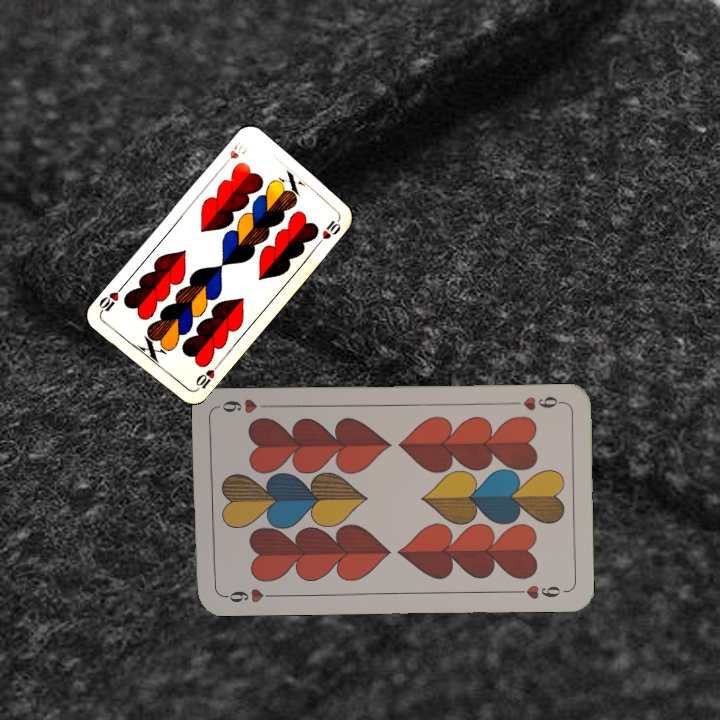H10: (218, 136, 251, 170), (191, 360, 222, 394)
H9: (506, 392, 565, 413), (219, 584, 278, 605)
